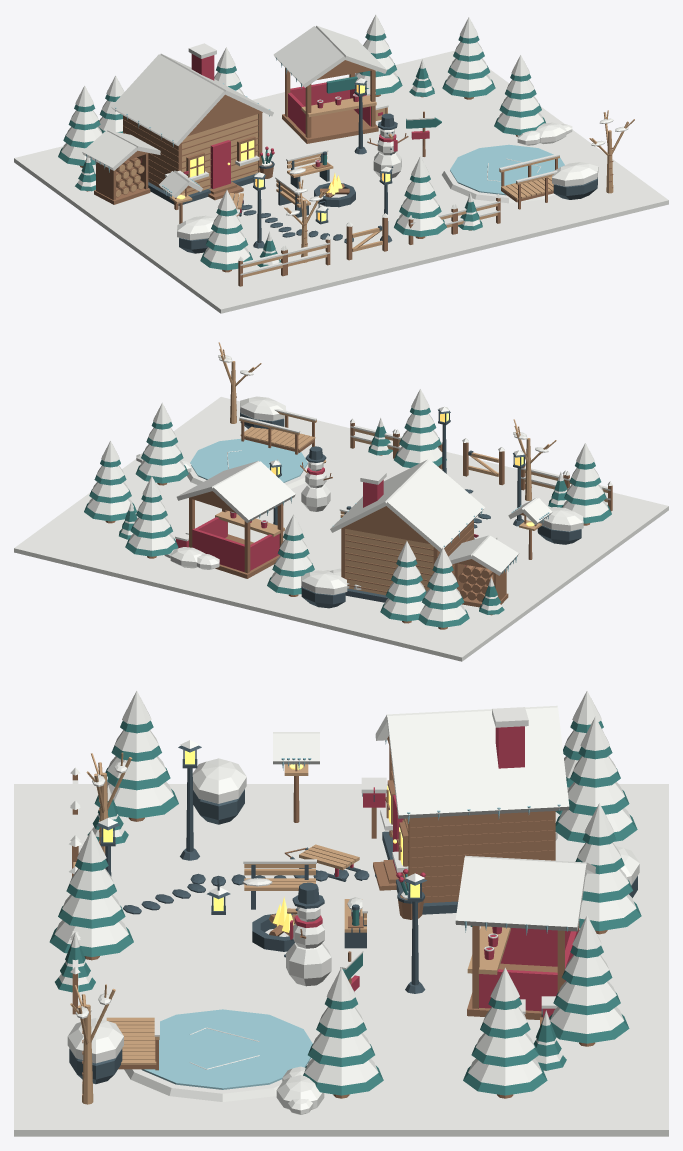
The model's file is winter-hearth-village-winter-hearth-vill-072c9d0c-starter-scene__21853.glb.
3 renders of one model, top to bottom at view 1: azimuth 30°, elevation 25°; view 2: azimuth 150°, elevation 25°; view 3: azimuth 270°, elevation 25°, orthographic. The views are drawn at different scales.
Visible parts, largest first — view 1: 020-hearth-cabin/hearth-cabin-snow, 020-hearth-cabin/hearth-cabin-wood, 003-snow-ground-tile/snow-ground-tile-snow, 007-snow-ground-tile/snow-ground-tile-snow, 021-cocoa-market-stall/cocoa-market-stall-snow, 019-snow-ground-tile/snow-ground-tile-snow, 015-snow-ground-tile/snow-ground-tile-snow, 023-frozen-village-pond/frozen-village-pond-ice, 011-snow-ground-tile/snow-ground-tile-snow, 001-snow-ground-tile/snow-ground-tile-snow, 021-cocoa-market-stall/cocoa-market-stall-wood, 009-snow-ground-tile/snow-ground-tile-snow (+48 smaller); view 2: 020-hearth-cabin/hearth-cabin-snow, 016-snow-ground-tile/snow-ground-tile-snow, 000-snow-ground-tile/snow-ground-tile-snow, 002-snow-ground-tile/snow-ground-tile-snow, 021-cocoa-market-stall/cocoa-market-stall-snow, 020-hearth-cabin/hearth-cabin-cedar, 020-hearth-cabin/hearth-cabin-wood, 023-frozen-village-pond/frozen-village-pond-ice, 008-snow-ground-tile/snow-ground-tile-snow, 004-snow-ground-tile/snow-ground-tile-snow, 012-snow-ground-tile/snow-ground-tile-snow, 021-cocoa-market-stall/cocoa-market-stall-red (+46 smaller); view 3: 020-hearth-cabin/hearth-cabin-snow, 016-snow-ground-tile/snow-ground-tile-snow, 023-frozen-village-pond/frozen-village-pond-ice, 017-snow-ground-tile/snow-ground-tile-snow, 019-snow-ground-tile/snow-ground-tile-snow, 020-hearth-cabin/hearth-cabin-wood, 021-cocoa-market-stall/cocoa-market-stall-snow, 002-snow-ground-tile/snow-ground-tile-snow, 010-snow-ground-tile/snow-ground-tile-snow, 011-snow-ground-tile/snow-ground-tile-snow, 013-snow-ground-tile/snow-ground-tile-snow, 007-snow-ground-tile/snow-ground-tile-snow (+51 smaller).
Part boxes in pixels (box(x1,y1,x2,y2)): 020-hearth-cabin/hearth-cabin-snow: box(111, 43, 273, 180); 020-hearth-cabin/hearth-cabin-wood: box(123, 94, 262, 200); 003-snow-ground-tile/snow-ground-tile-snow: box(169, 250, 310, 313); 007-snow-ground-tile/snow-ground-tile-snow: box(259, 228, 400, 291); 021-cocoa-market-stall/cocoa-market-stall-snow: box(273, 25, 386, 102); 019-snow-ground-tile/snow-ground-tile-snow: box(548, 162, 668, 226); 015-snow-ground-tile/snow-ground-tile-snow: box(439, 198, 579, 247); 023-frozen-village-pond/frozen-village-pond-ice: box(450, 144, 564, 195); 011-snow-ground-tile/snow-ground-tile-snow: box(352, 208, 489, 269); 001-snow-ground-tile/snow-ground-tile-snow: box(65, 190, 206, 237); 021-cocoa-market-stall/cocoa-market-stall-wood: box(282, 60, 378, 143); 009-snow-ground-tile/snow-ground-tile-snow: box(262, 137, 373, 189); 020-hearth-cabin/hearth-cabin-snow: box(330, 459, 484, 551); 016-snow-ground-tile/snow-ground-tile-snow: box(14, 510, 129, 574); 000-snow-ground-tile/snow-ground-tile-snow: box(372, 607, 513, 661); 002-snow-ground-tile/snow-ground-tile-snow: box(501, 527, 617, 585); 021-cocoa-market-stall/cocoa-market-stall-snow: box(176, 461, 295, 522); 020-hearth-cabin/hearth-cabin-cedar: box(345, 529, 433, 595); 020-hearth-cabin/hearth-cabin-wood: box(341, 506, 473, 592); 023-frozen-village-pond/frozen-village-pond-ice: box(190, 438, 307, 482); 008-snow-ground-tile/snow-ground-tile-snow: box(193, 564, 314, 617); 004-snow-ground-tile/snow-ground-tile-snow: box(282, 596, 393, 639); 012-snow-ground-tile/snow-ground-tile-snow: box(103, 536, 221, 595); 021-cocoa-market-stall/cocoa-market-stall-red: box(192, 512, 279, 572); 020-hearth-cabin/hearth-cabin-snow: box(375, 705, 569, 872); 016-snow-ground-tile/snow-ground-tile-snow: box(505, 1060, 668, 1136); 023-frozen-village-pond/frozen-village-pond-ice: box(141, 1009, 312, 1089); 017-snow-ground-tile/snow-ground-tile-snow: box(341, 1060, 505, 1136); 019-snow-ground-tile/snow-ground-tile-snow: box(14, 1060, 177, 1136); 020-hearth-cabin/hearth-cabin-wood: box(373, 736, 555, 903); 021-cocoa-market-stall/cocoa-market-stall-snow: box(455, 855, 595, 951); 002-snow-ground-tile/snow-ground-tile-snow: box(177, 784, 341, 852); 010-snow-ground-tile/snow-ground-tile-snow: box(177, 922, 341, 991); 011-snow-ground-tile/snow-ground-tile-snow: box(14, 922, 177, 991); 013-snow-ground-tile/snow-ground-tile-snow: box(354, 991, 484, 1060); 007-snow-ground-tile/snow-ground-tile-snow: box(14, 853, 177, 922).
Bounding box in the file's own units: 20 × 4.94 × 16.
